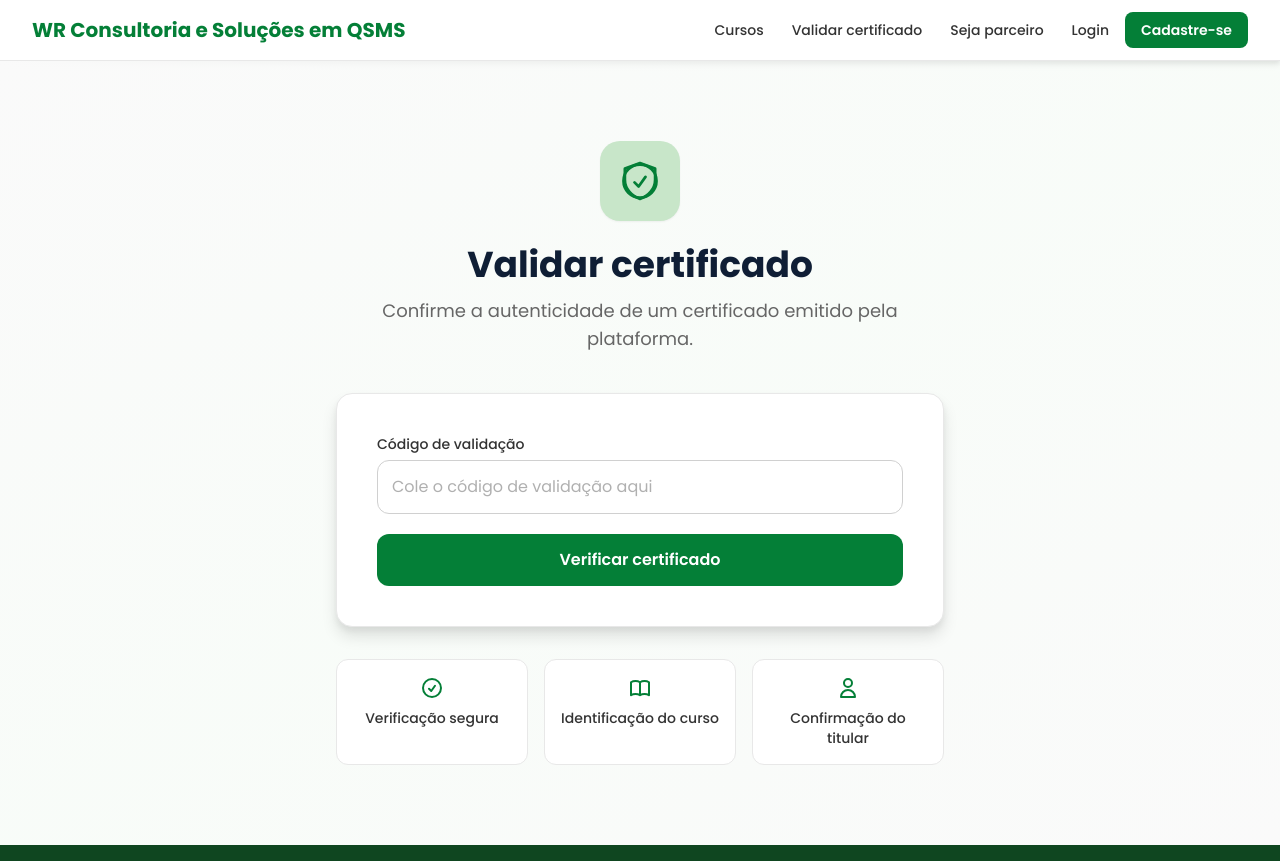
Test: ValidateCertificate › clears previous results on new submission
The image size is (1280, 861).
Type "CODE1" into the field with test id "validate-code-input" at coordinates (640, 487), box x1=377 y1=460 x2=903 y2=514
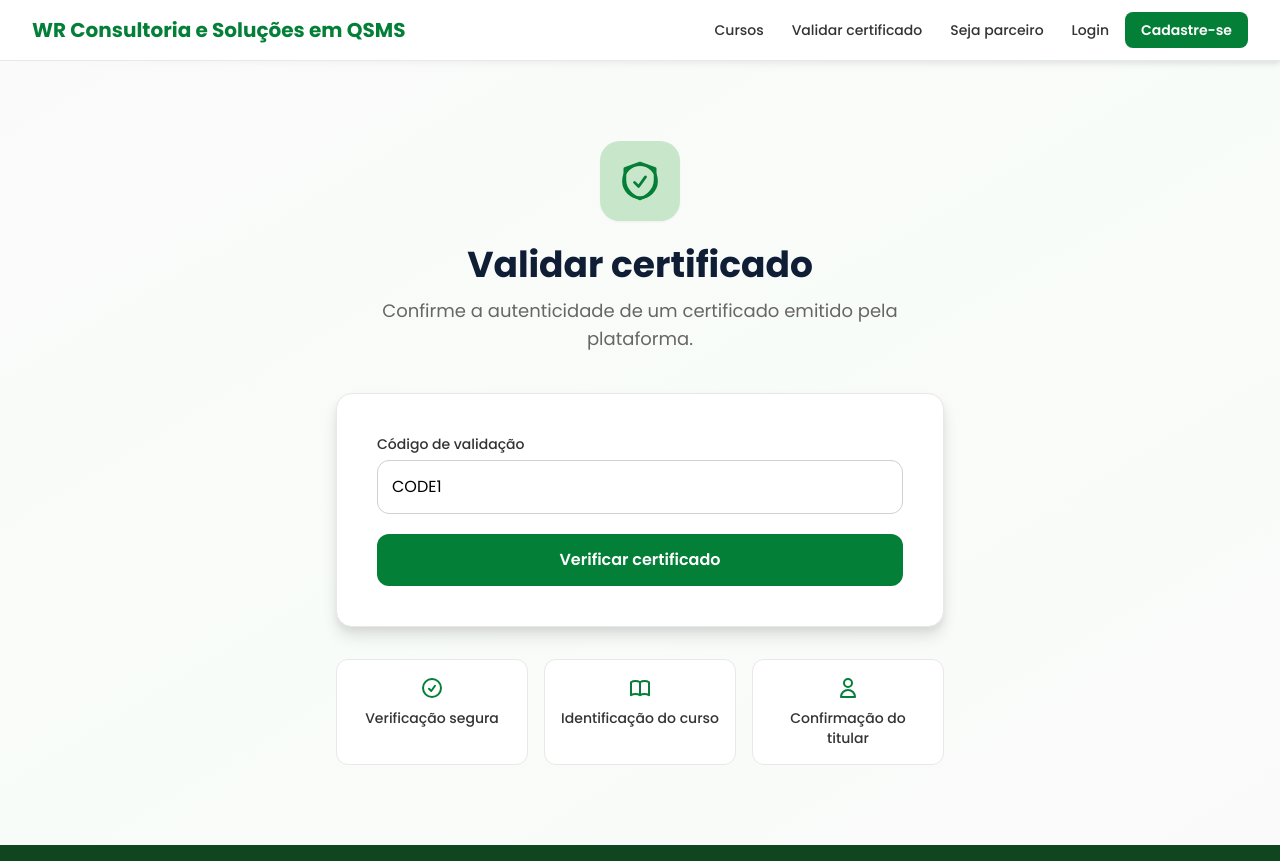
Submit the form, box x1=377 y1=434 x2=903 y2=586
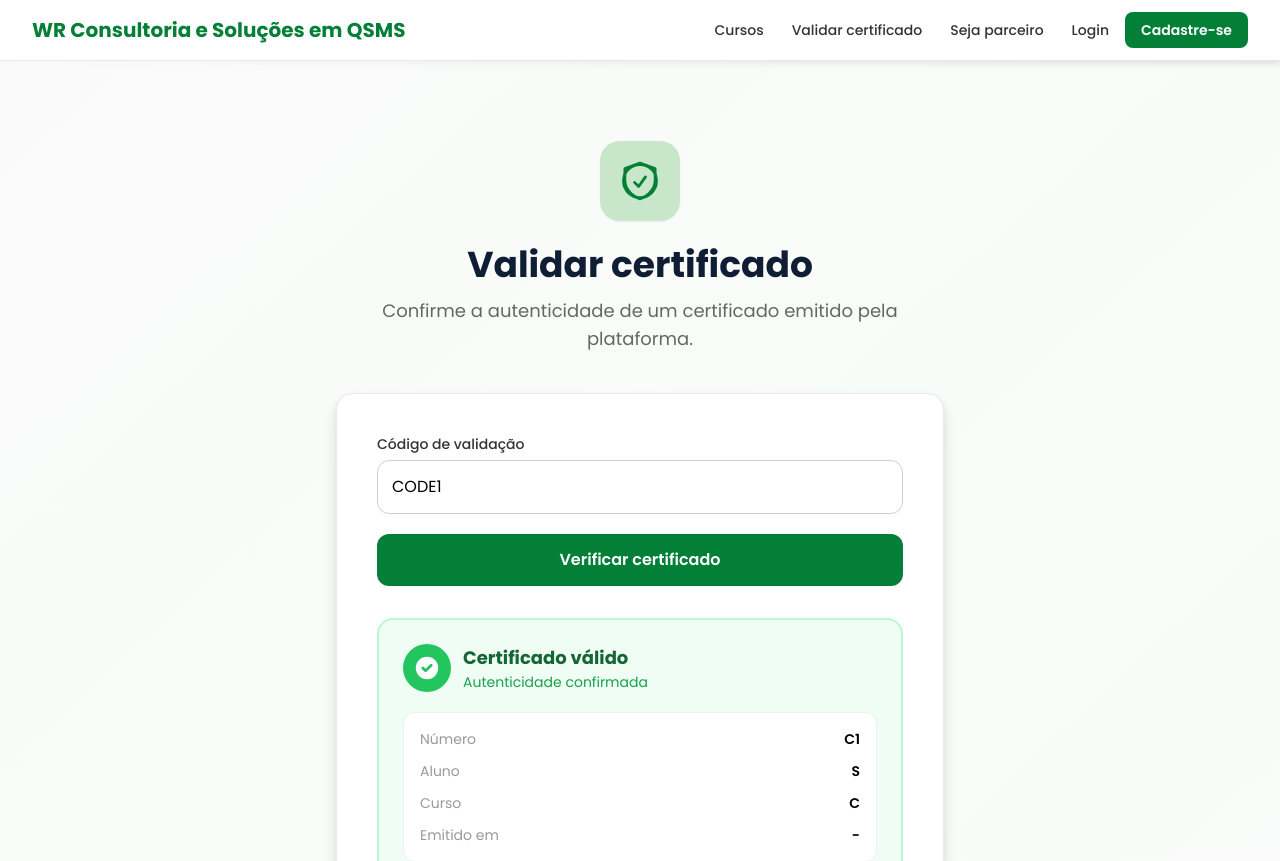
Replace the text in the field with test id "validate-code-input" with "CODE2" at coordinates (640, 487), box x1=377 y1=460 x2=903 y2=514
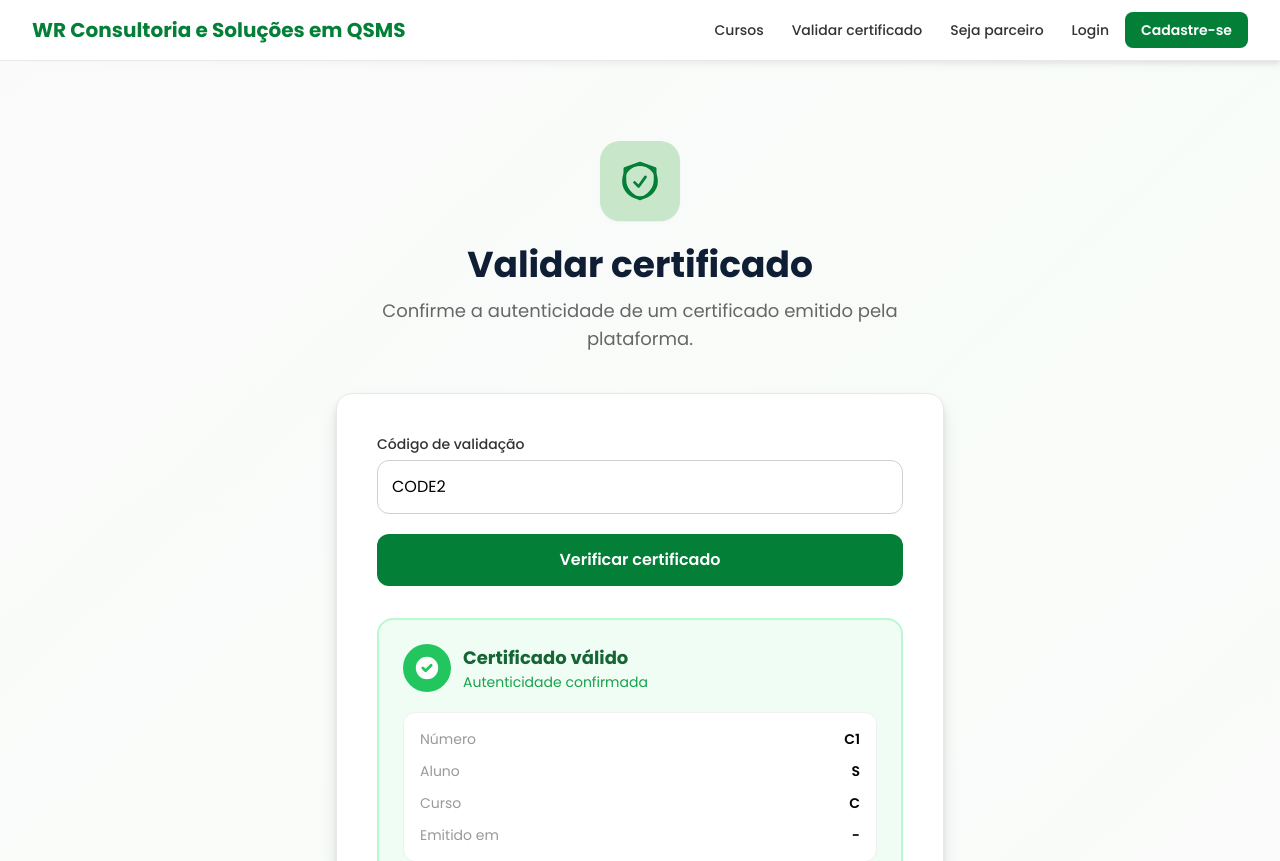
Submit the form, box x1=377 y1=434 x2=903 y2=586
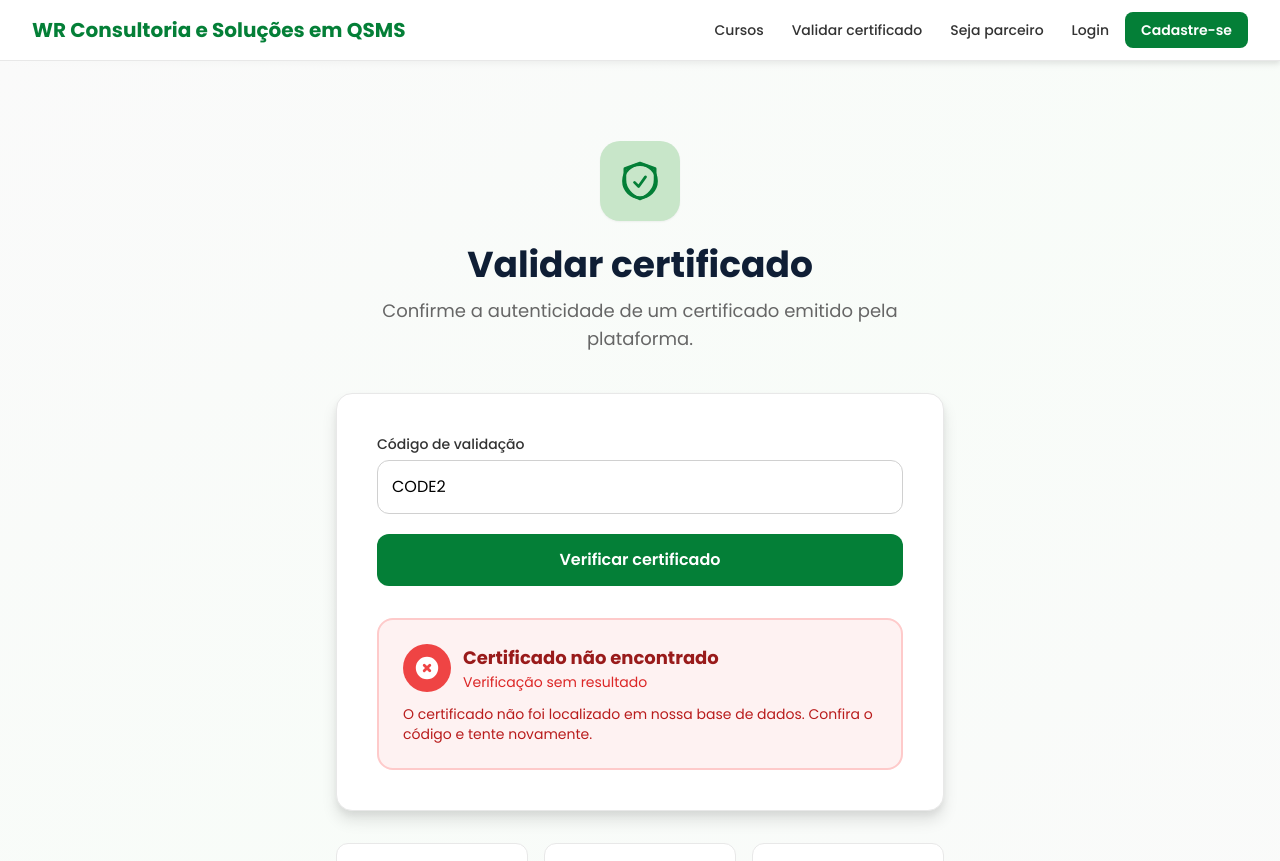
Check: the element with test id "validate-invalid" is shown, box x1=377 y1=618 x2=903 y2=770
